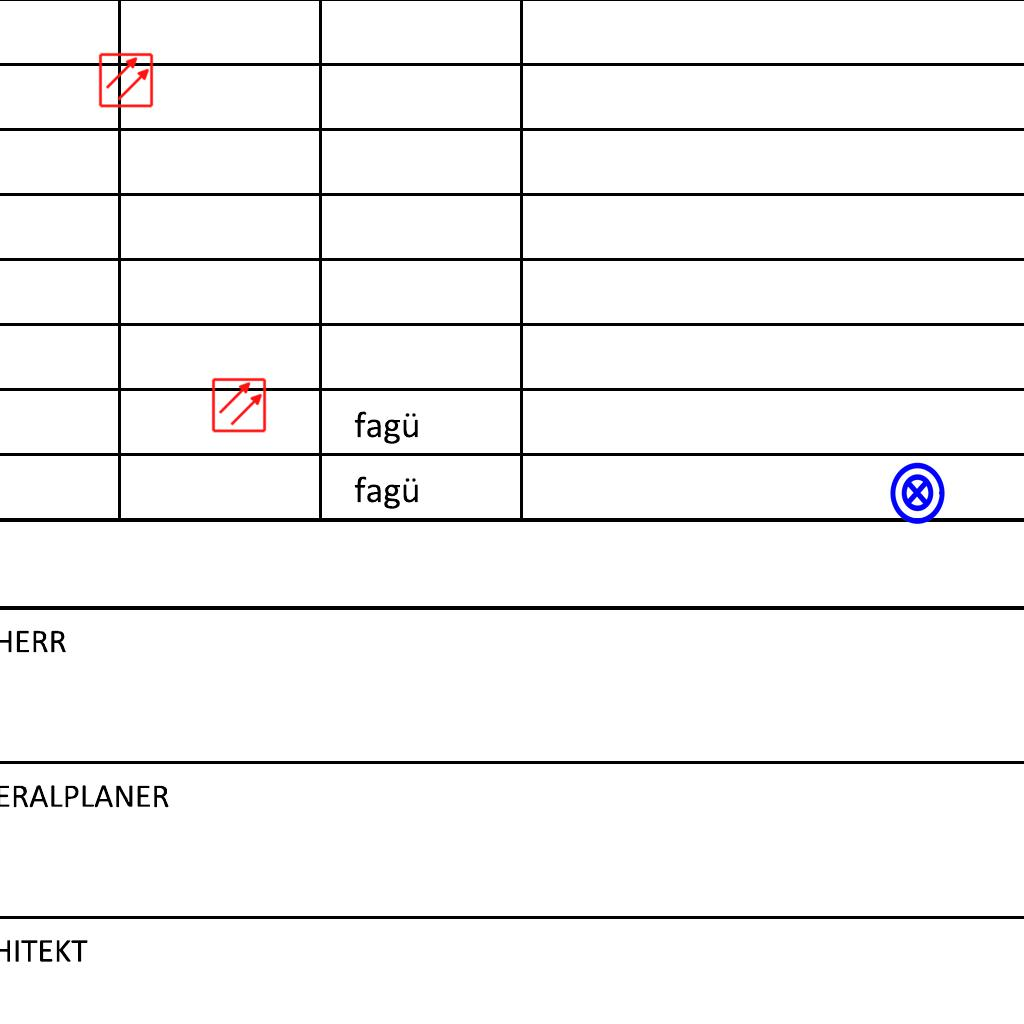RMO_Rauchmelder_optischer: (98, 52, 154, 108), (211, 377, 267, 433)
Taster_beleuchtet: (884, 460, 950, 526)
